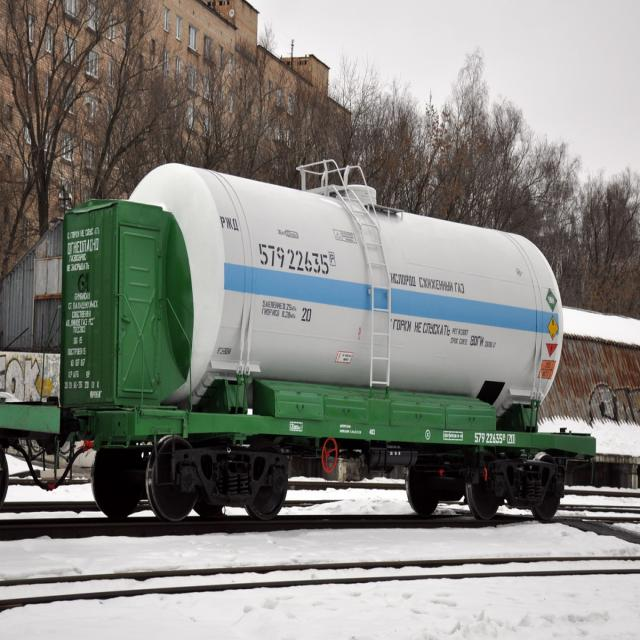tank: (77, 148, 596, 517)
